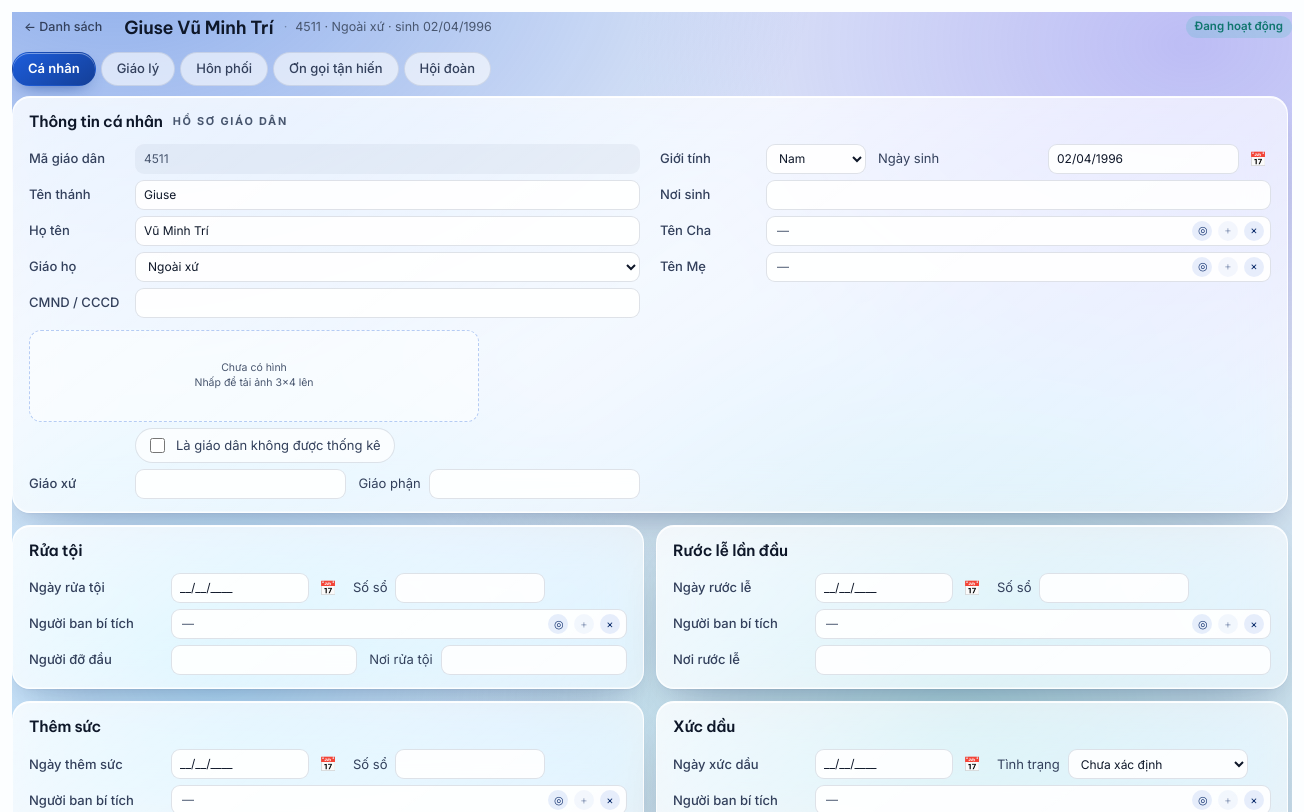
Test: GiaoDanDetailPage › tai danh muc va danh sach hoi doan that tu API va hien trong tab
Expected: the heading "Giuse Vũ Minh Trí" is shown, x1=124 y1=14 x2=274 y2=40
Click the tab "Hội đoàn" at (447,69), box x1=404 y1=52 x2=491 y2=86
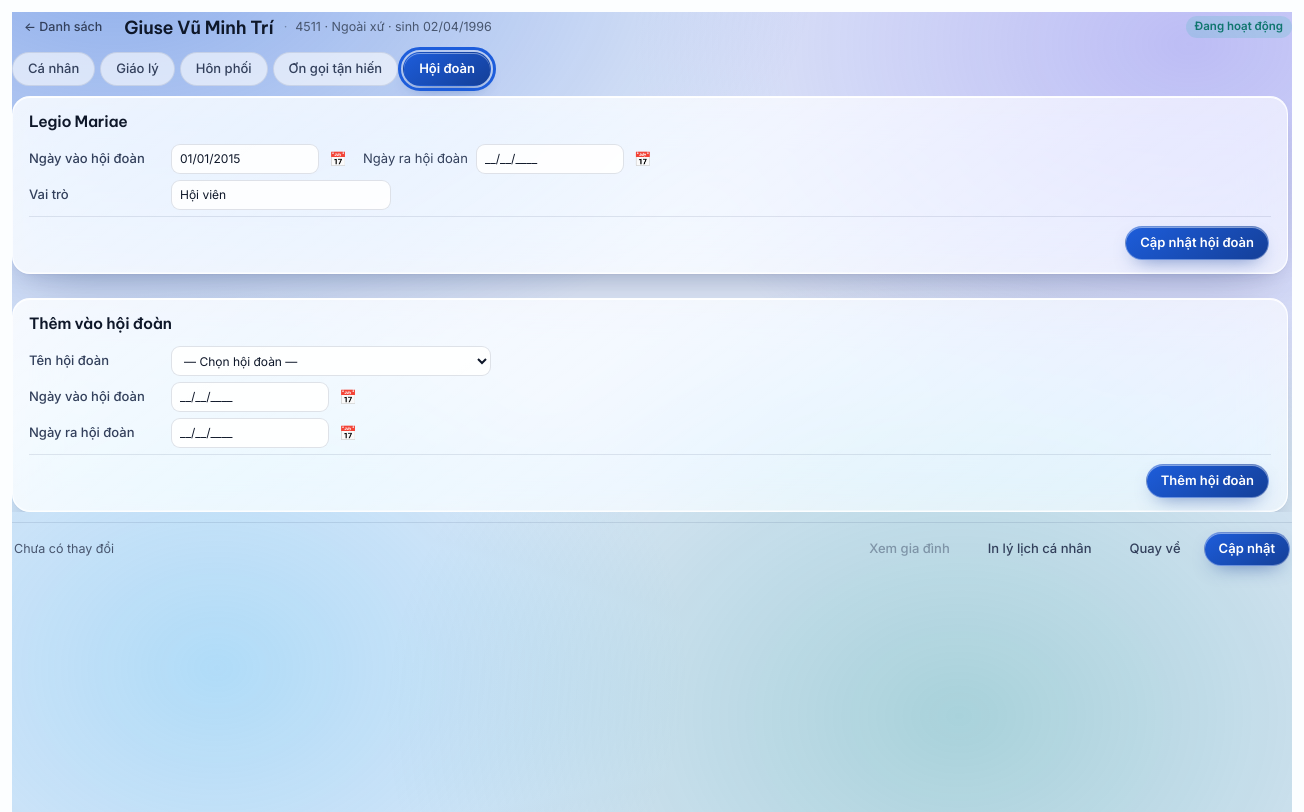
Result: the heading "Legio Mariae" is shown at x1=29 y1=110 x2=128 y2=133
